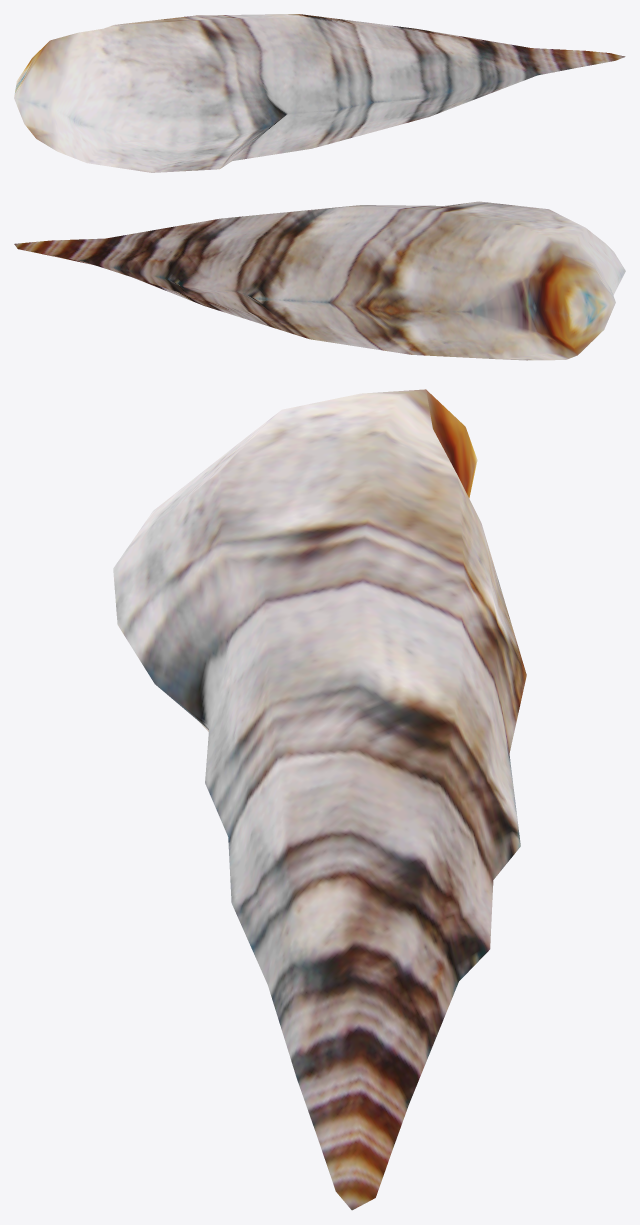
File: SeaShell-04_LOD0_Small.glb
The picture shows the model from 3 angles, top to bottom: view 1: azimuth 30°, elevation 25°; view 2: azimuth 150°, elevation 25°; view 3: azimuth 270°, elevation 25°; orthographic projection. The views are drawn at different scales.
Visible parts, largest first — view 1: SeaShell-04_high; view 2: SeaShell-04_high; view 3: SeaShell-04_high.
Boxes of the visible parts, x1,y1,x2,y2 form: SeaShell-04_high: (14, 14, 625, 172); SeaShell-04_high: (14, 201, 625, 360); SeaShell-04_high: (113, 389, 526, 1210).
Size of the model in its own units: 0.0294 by 0.00724 by 0.00877.
Materials: 1 (1 with a texture image).
